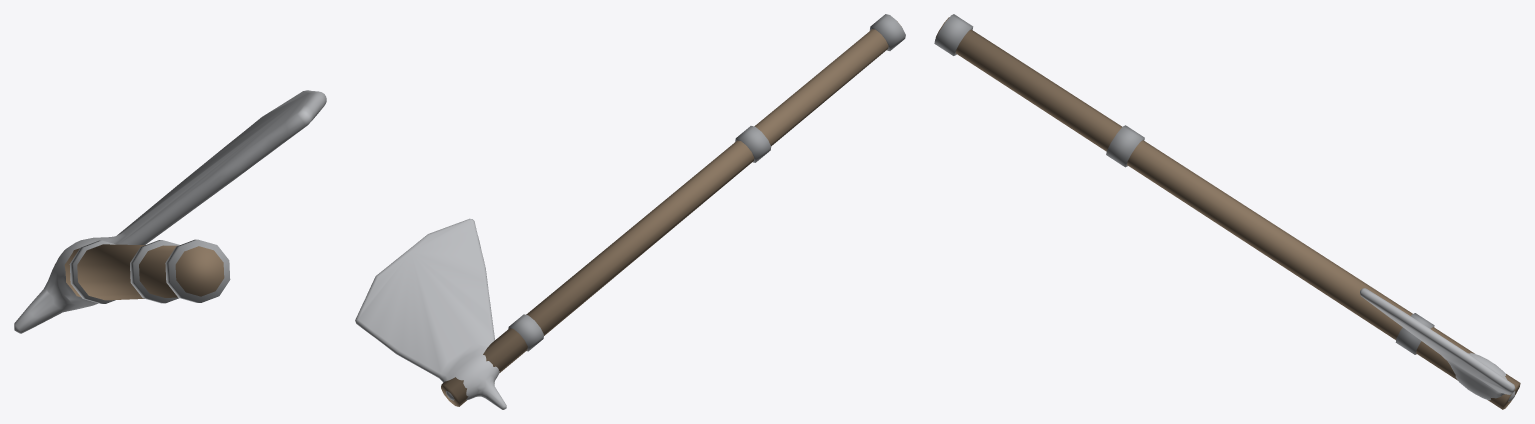
File: AxeStowed.fbx
3 renders of one model, left to right at view 1: azimuth 30°, elevation 25°; view 2: azimuth 150°, elevation 25°; view 3: azimuth 270°, elevation 25°, orthographic. The views are drawn at different scales.
Visible parts, largest first — view 1: AxeStowed; view 2: AxeStowed; view 3: AxeStowed.
Part boxes in pixels (left/top/right/bottom): AxeStowed: left=14, top=90, right=326, bottom=333; AxeStowed: left=355, top=14, right=905, bottom=409; AxeStowed: left=934, top=14, right=1520, bottom=409.
Size of the model in its own units: 30.28 by 24.71 by 45.31.
